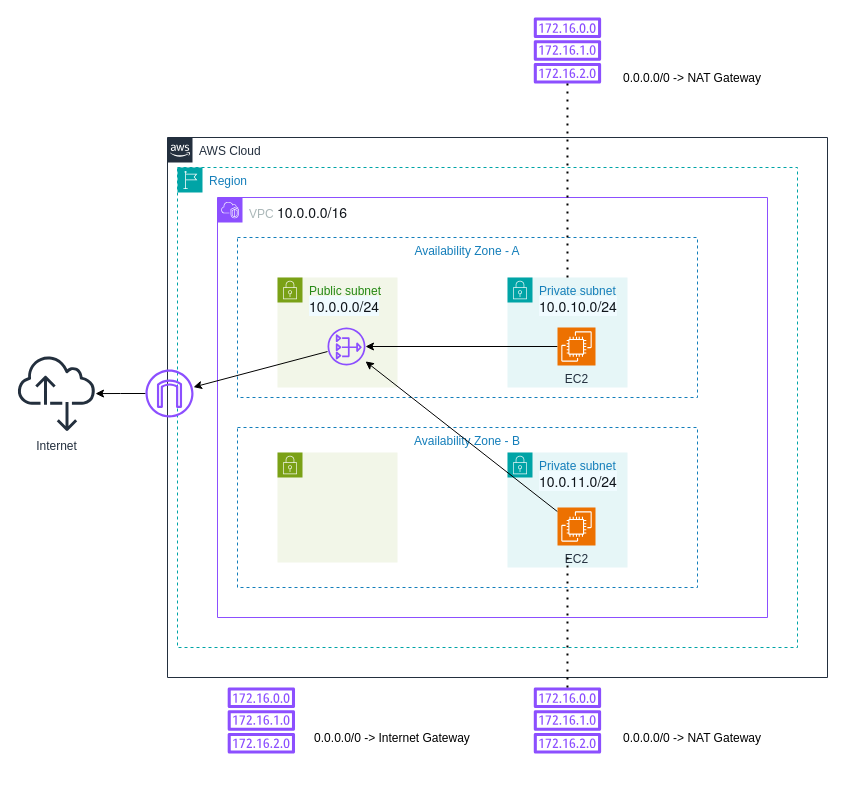
This 845x791 diagram has some shape labels left out. Each missing label, with the centre of its shape:
Internet Gateway: point (169, 393)
NAT Gateway: point (346, 346)
Private RT A: point (567, 50)
Private RT B: point (567, 720)
Public RT: point (261, 720)
Public subnet 10.1.0.0/24: point (337, 507)
